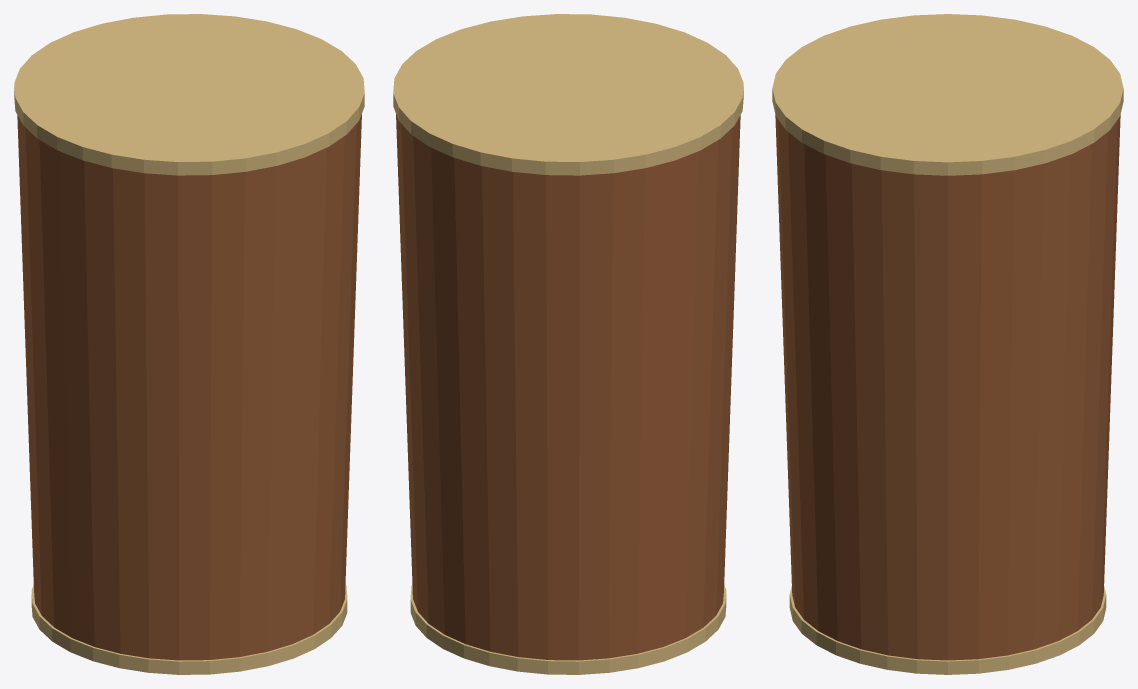
Rendered from demo.glb.
The picture shows the model from 3 angles, left to right: view 1: azimuth 30°, elevation 25°; view 2: azimuth 150°, elevation 25°; view 3: azimuth 270°, elevation 25°; orthographic projection.
Visible parts, largest first — view 1: body, top, bottom; view 2: body, top, bottom; view 3: body, top, bottom.
Part boxes in pixels (x1=…): body: x1=17, y1=114, x2=361, y2=660; top: x1=14, y1=14, x2=364, y2=175; bottom: x1=31, y1=585, x2=347, y2=674; body: x1=396, y1=114, x2=740, y2=660; top: x1=393, y1=14, x2=743, y2=175; bottom: x1=410, y1=585, x2=726, y2=674; body: x1=775, y1=115, x2=1120, y2=660; top: x1=772, y1=14, x2=1123, y2=175; bottom: x1=789, y1=586, x2=1106, y2=674.
Bounding box in the file's own units: 1.42 × 2.32 × 1.42.
